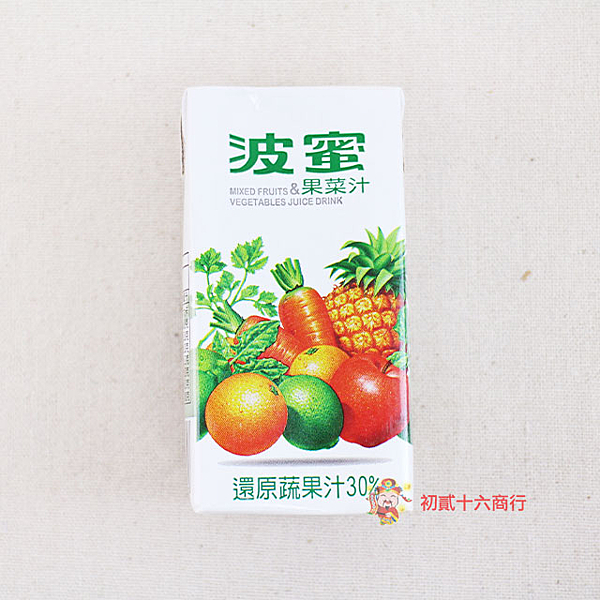vegetables juice: (170, 62, 424, 524)
